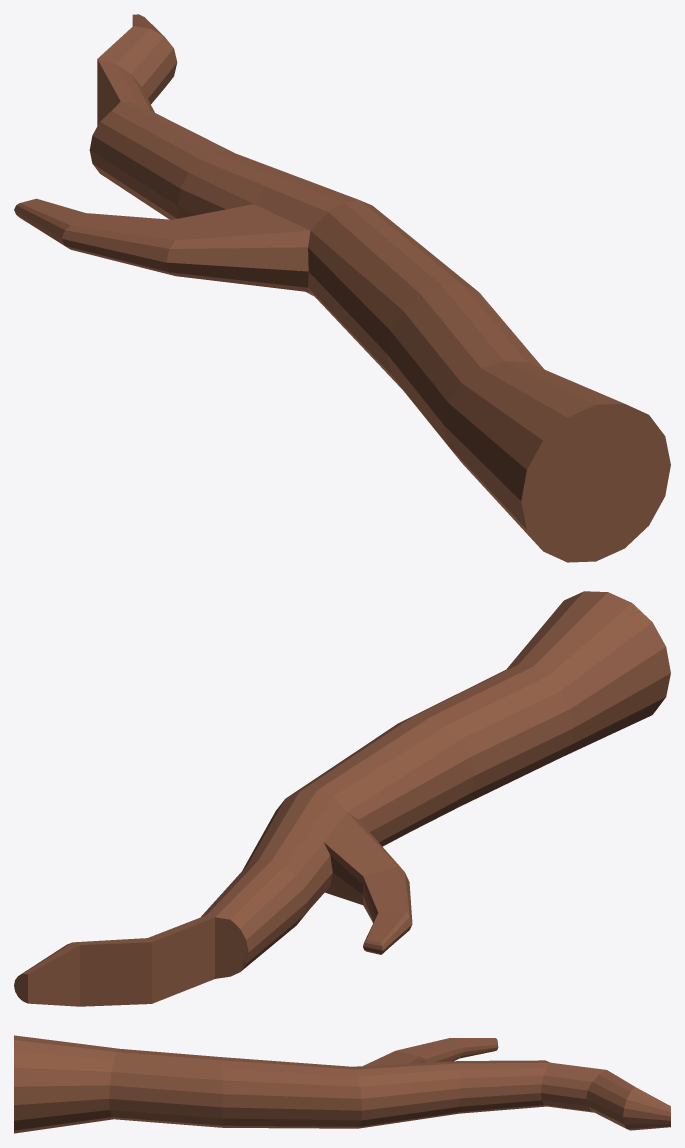
The model's file is tree.glb.
The picture shows the model from 3 angles, top to bottom: view 1: azimuth 30°, elevation 25°; view 2: azimuth 150°, elevation 25°; view 3: azimuth 270°, elevation 25°; orthographic projection. The views are drawn at different scales.
Visible parts, largest first — view 1: Cylinder.002; view 2: Cylinder.002; view 3: Cylinder.002.
Boxes of the visible parts, x1=… form: Cylinder.002: x1=14, y1=14, x2=670, y2=562; Cylinder.002: x1=14, y1=591, x2=670, y2=1006; Cylinder.002: x1=14, y1=1035, x2=670, y2=1133.
Size of the model in its own units: 5.34 by 2.78 by 18.58.
